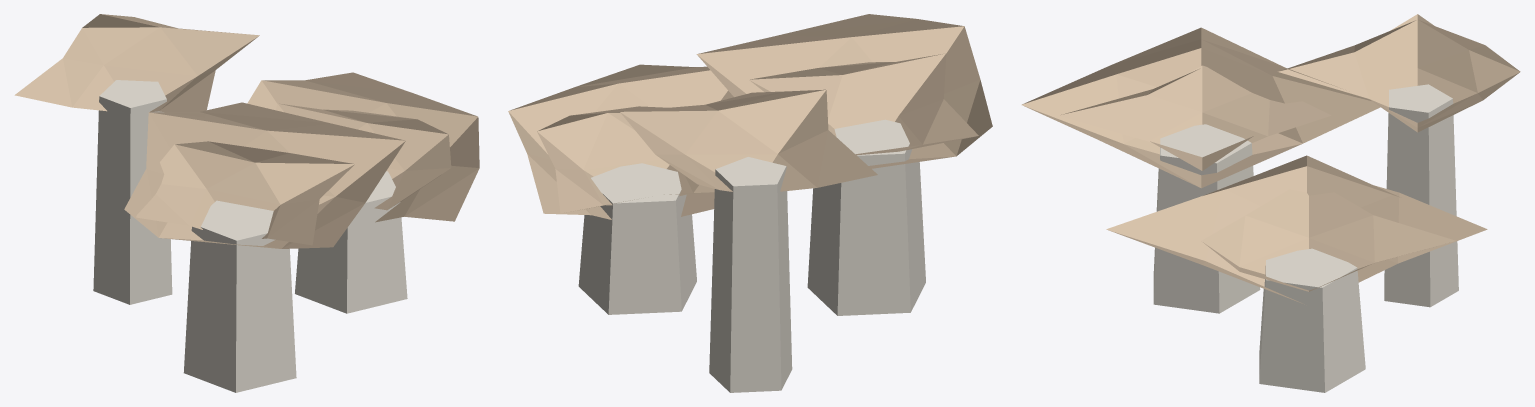
File: mushroom_v47.glb
3 renders of one model, left to right at view 1: azimuth 30°, elevation 25°; view 2: azimuth 150°, elevation 25°; view 3: azimuth 270°, elevation 25°, orthographic. The views are drawn at different scales.
Parts seen in each view (by area): view 1: lod0; view 2: lod0; view 3: lod0.
Part boxes in pixels (box(x1,y1,x2,y2)): lod0: box(14, 14, 479, 392); lod0: box(508, 14, 992, 392); lod0: box(1021, 14, 1520, 392).
Size of what is drawn, in the model's own units: 0.7471 by 0.473 by 0.8011.
